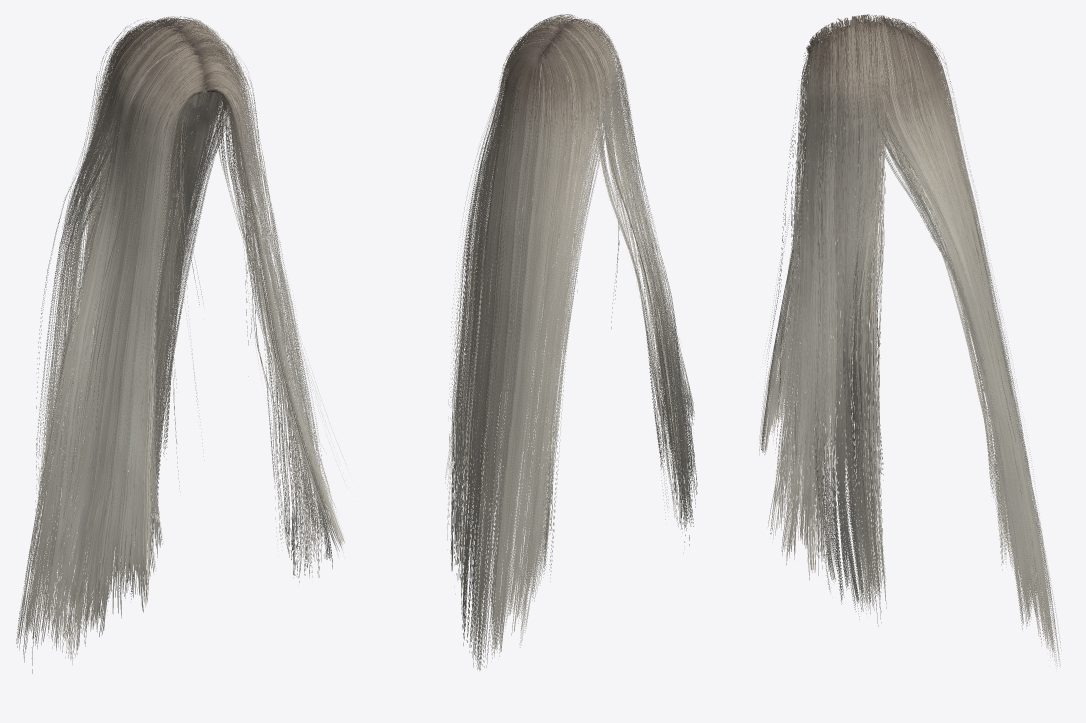
File: dint_hair_03long.glb
3 renders of one model, left to right at view 1: azimuth 30°, elevation 25°; view 2: azimuth 150°, elevation 25°; view 3: azimuth 270°, elevation 25°, orthographic. The views are drawn at different scales.
Parts seen in each view (by area): view 1: a4_1_a4_1, a3_1_a3_1, a2_1_a2_1, a2_2_a2_2, a4_3_a4_3, a3_2_a3_2, a1_4_a1_4, a1_1_a1_1, a4_2_a4_2, a5_2_a5_2, a3_3_a3_3, a1_2_a1_2 (+9 smaller); view 2: a4_3_a4_3, a4_4_a4_4, a3_3_a3_3, a3_4_a3_4, a2_3_a2_3, a3_1_a3_1, a2_4_a2_4, a2_1_a2_1, a4_1_a4_1, a5_4_a5_4, a1_3_a1_3, a1_1_a1_1 (+6 smaller); view 3: a4_2_a4_2, a3_2_a3_2, a4_4_a4_4, a2_2_a2_2, a3_4_a3_4, a2_4_a2_4, a1_2_a1_2, a5_3_a5_3, a1_4_a1_4, a2_1_a2_1, a1_1_a1_1, a3_1_a3_1 (+4 smaller).
Boxes of the visible parts, <box> form: a4_1_a4_1: <box>16,30,205,673</box>; a3_1_a3_1: <box>17,25,205,645</box>; a2_1_a2_1: <box>19,33,204,648</box>; a2_2_a2_2: <box>179,30,345,582</box>; a4_3_a4_3: <box>34,20,178,659</box>; a3_2_a3_2: <box>174,23,335,561</box>; a1_4_a1_4: <box>95,31,220,551</box>; a1_1_a1_1: <box>32,41,199,582</box>; a4_2_a4_2: <box>178,20,333,577</box>; a5_2_a5_2: <box>36,34,207,608</box>; a3_3_a3_3: <box>36,23,177,658</box>; a1_2_a1_2: <box>182,33,318,550</box>; a4_3_a4_3: <box>482,21,612,665</box>; a4_4_a4_4: <box>447,17,560,670</box>; a3_3_a3_3: <box>480,24,611,669</box>; a3_4_a3_4: <box>451,20,561,669</box>; a2_3_a2_3: <box>487,30,602,646</box>; a3_1_a3_1: <box>557,21,695,532</box>; a2_4_a2_4: <box>454,28,561,635</box>; a2_1_a2_1: <box>567,25,693,530</box>; a4_1_a4_1: <box>569,18,697,552</box>; a5_4_a5_4: <box>448,27,607,638</box>; a1_3_a1_3: <box>491,38,600,544</box>; a1_1_a1_1: <box>576,28,679,483</box>; a4_2_a4_2: <box>780,22,886,626</box>; a3_2_a3_2: <box>777,25,886,596</box>; a4_4_a4_4: <box>861,21,1061,666</box>; a2_2_a2_2: <box>767,29,880,611</box>; a3_4_a3_4: <box>862,25,1060,666</box>; a2_4_a2_4: <box>868,29,1045,639</box>; a1_2_a1_2: <box>782,33,884,570</box>; a5_3_a5_3: <box>761,26,853,521</box>; a1_4_a1_4: <box>871,35,1034,584</box>; a2_1_a2_1: <box>761,23,878,476</box>; a1_1_a1_1: <box>773,25,880,443</box>; a3_1_a3_1: <box>763,19,883,480</box>.
Size of the model in its own units: 0.5668 by 1.19 by 0.5182.
21 materials, 21 textured.
